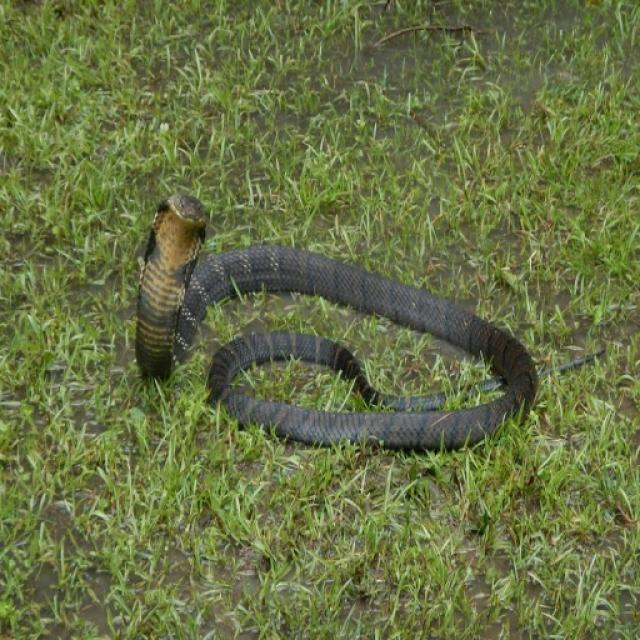snake: (125, 175, 547, 461)
